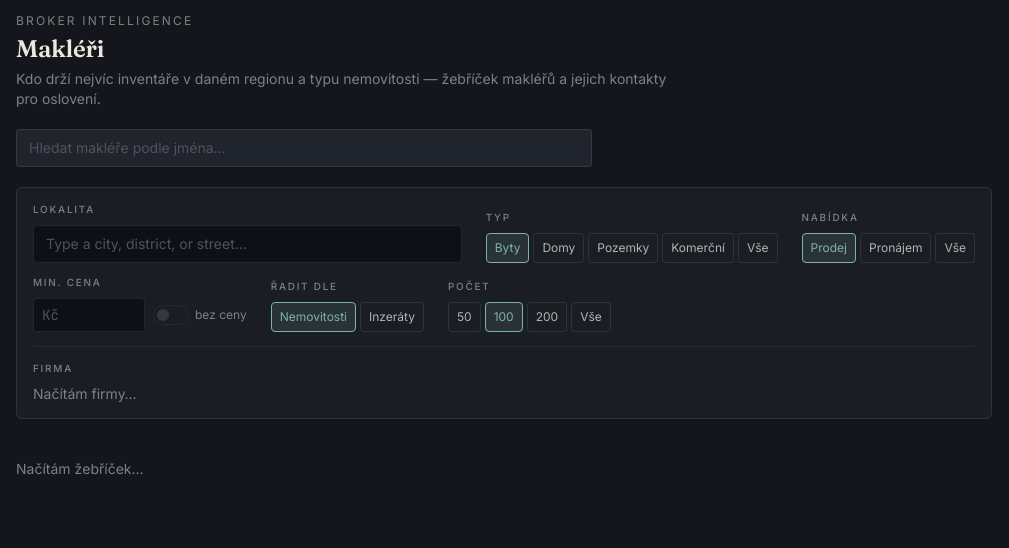
<Brokers> value filter › hides the value filter behind an explanatory hint when Nabídka is "Vše"
This screenshot has width=1009, height=548.
Type "3000000" into the field named "Minimální cena".
click(89, 315); type("3000000")  # box [33,298,145,332]
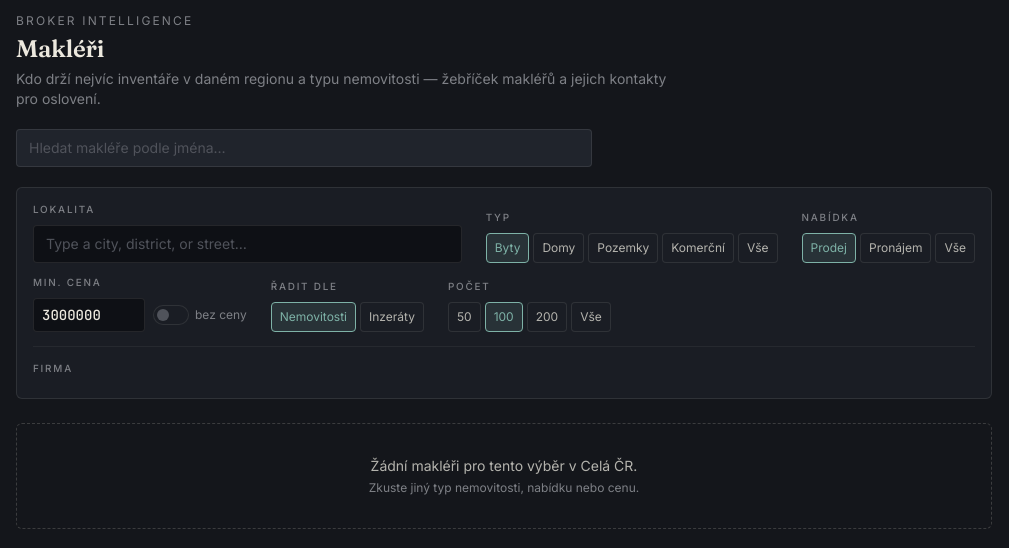
Three "Vše" pills exist (Typ / Nabídka / Počet) — scope to Nabídka's field.
Click the button "Vše" below "Nabídka".
click(955, 248)  # box [935,233,975,263]
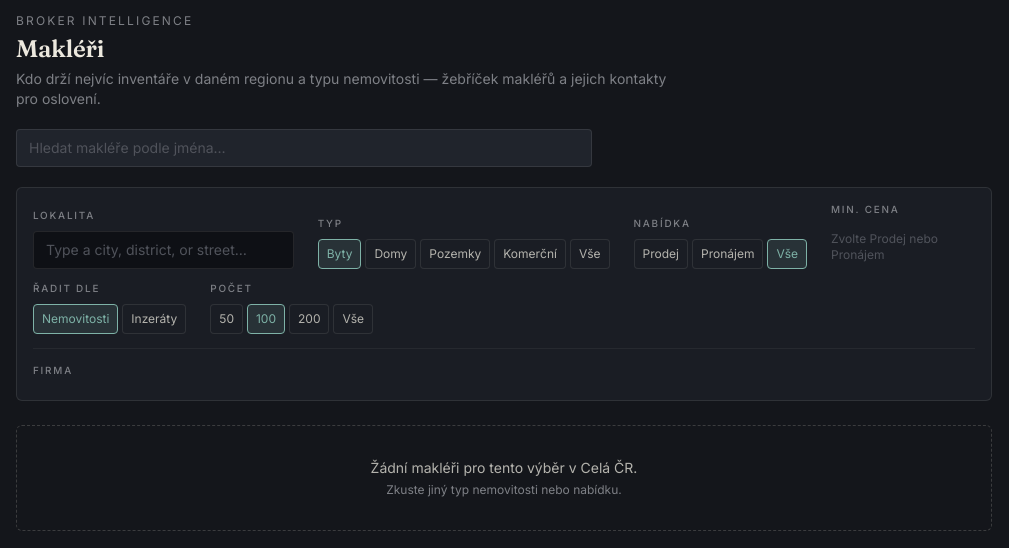
Expected: the text "Zvolte Prodej nebo Pronájem" is shown, [831,231,938,262]
